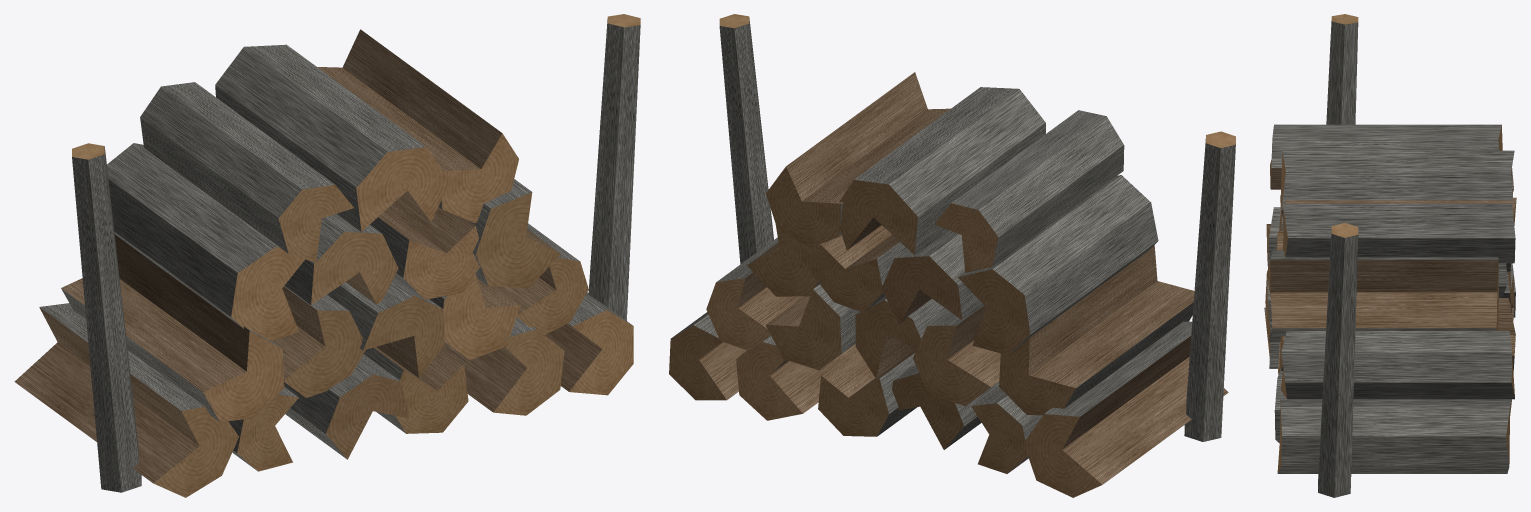
The model's file is woodpile.glb.
The picture shows the model from 3 angles, left to right: view 1: azimuth 30°, elevation 25°; view 2: azimuth 150°, elevation 25°; view 3: azimuth 270°, elevation 25°; orthographic projection. The views are drawn at different scales.
Visible parts, largest first — view 1: Merewatch woodpile; view 2: Merewatch woodpile; view 3: Merewatch woodpile.
Part boxes in pixels (left/top/right/bottom): Merewatch woodpile: left=14, top=14, right=640, bottom=497; Merewatch woodpile: left=669, top=14, right=1235, bottom=497; Merewatch woodpile: left=1264, top=14, right=1516, bottom=497.
Size of the model in its own units: 1.48 by 0.838 by 0.7065.
Materials: 1 (1 with a texture image).
